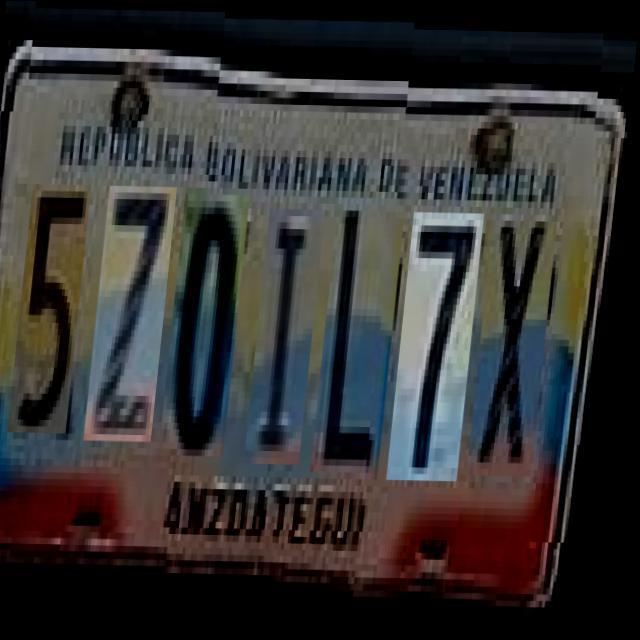5: (17, 184, 95, 433)
7: (398, 197, 490, 466)
I: (254, 202, 330, 456)
L: (321, 189, 411, 465)
O: (169, 186, 255, 448)
X: (478, 198, 564, 461)
Z: (93, 185, 181, 441)
